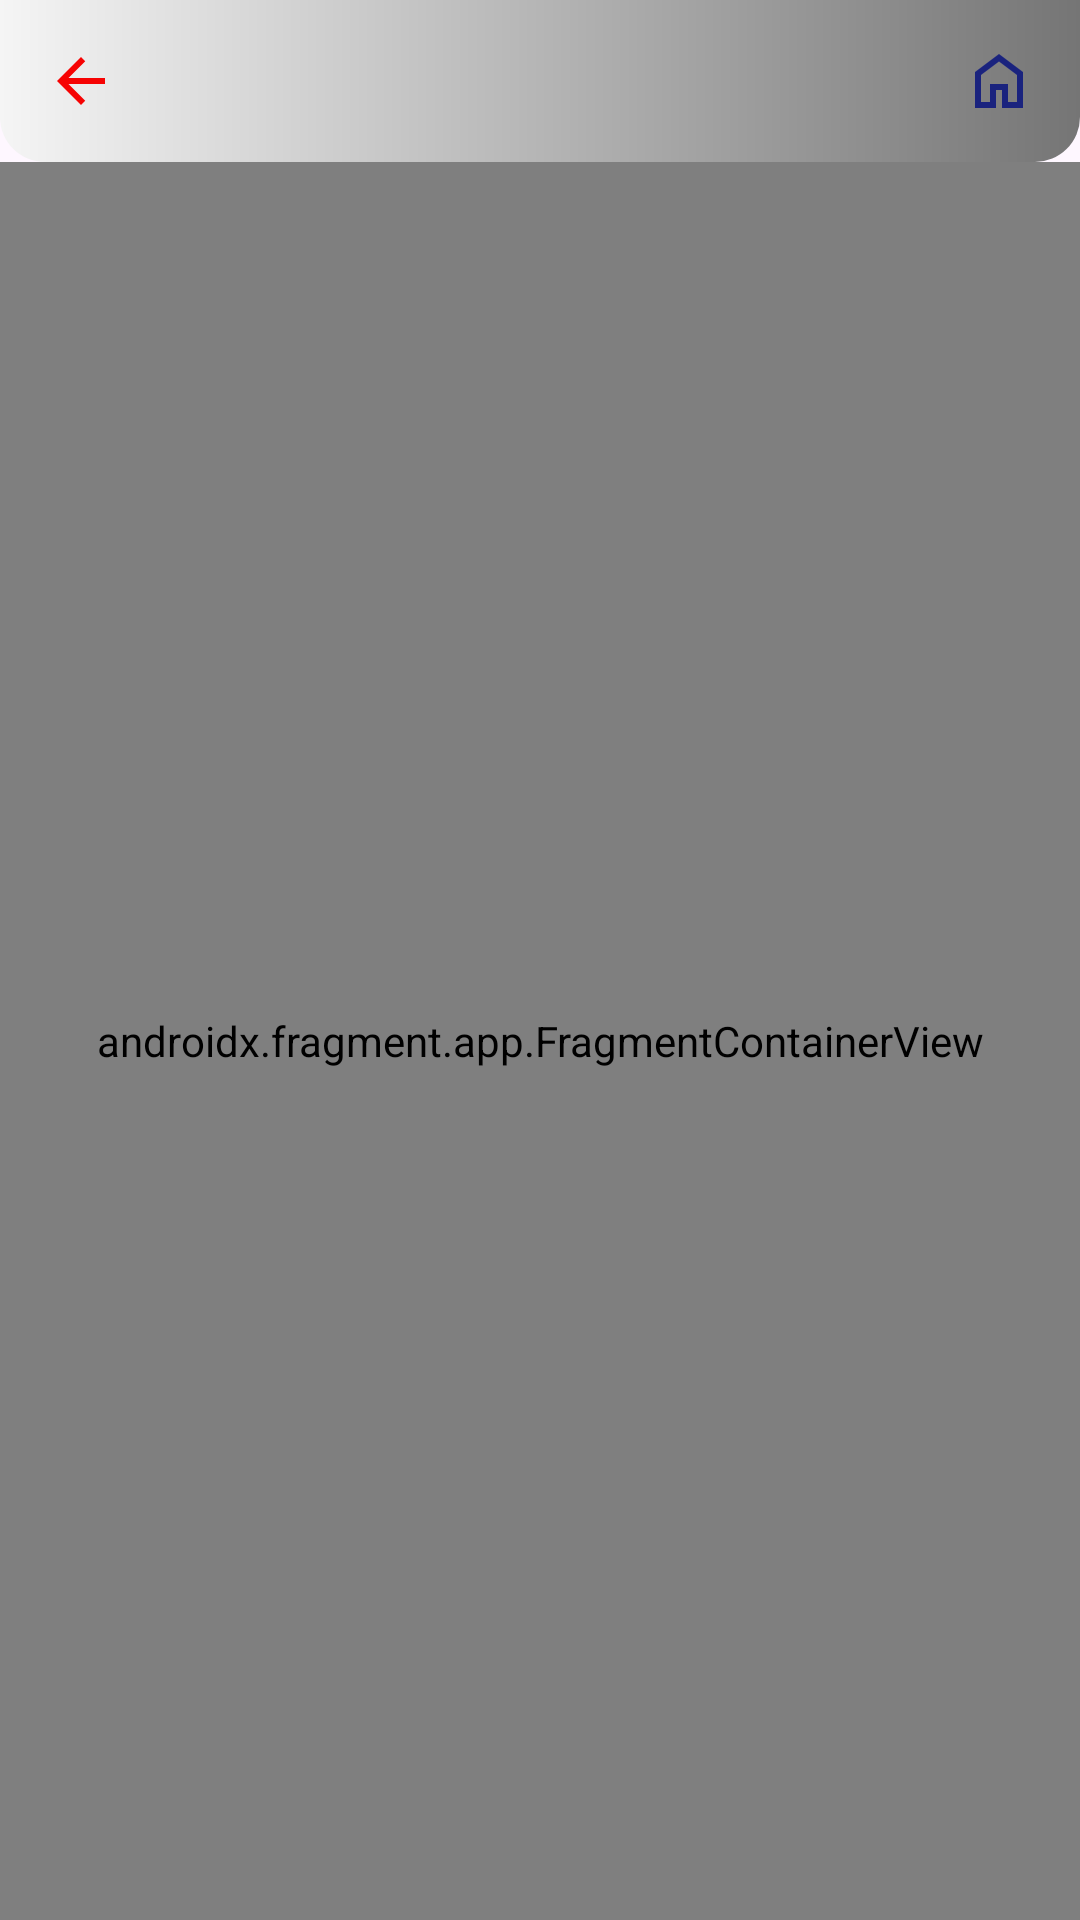

Named icons in this screenshot (1080w x 1920h) and their centers, (x=x, y=y):
Button Home: (x=1027, y=108)
Navigation back: (x=81, y=81)
